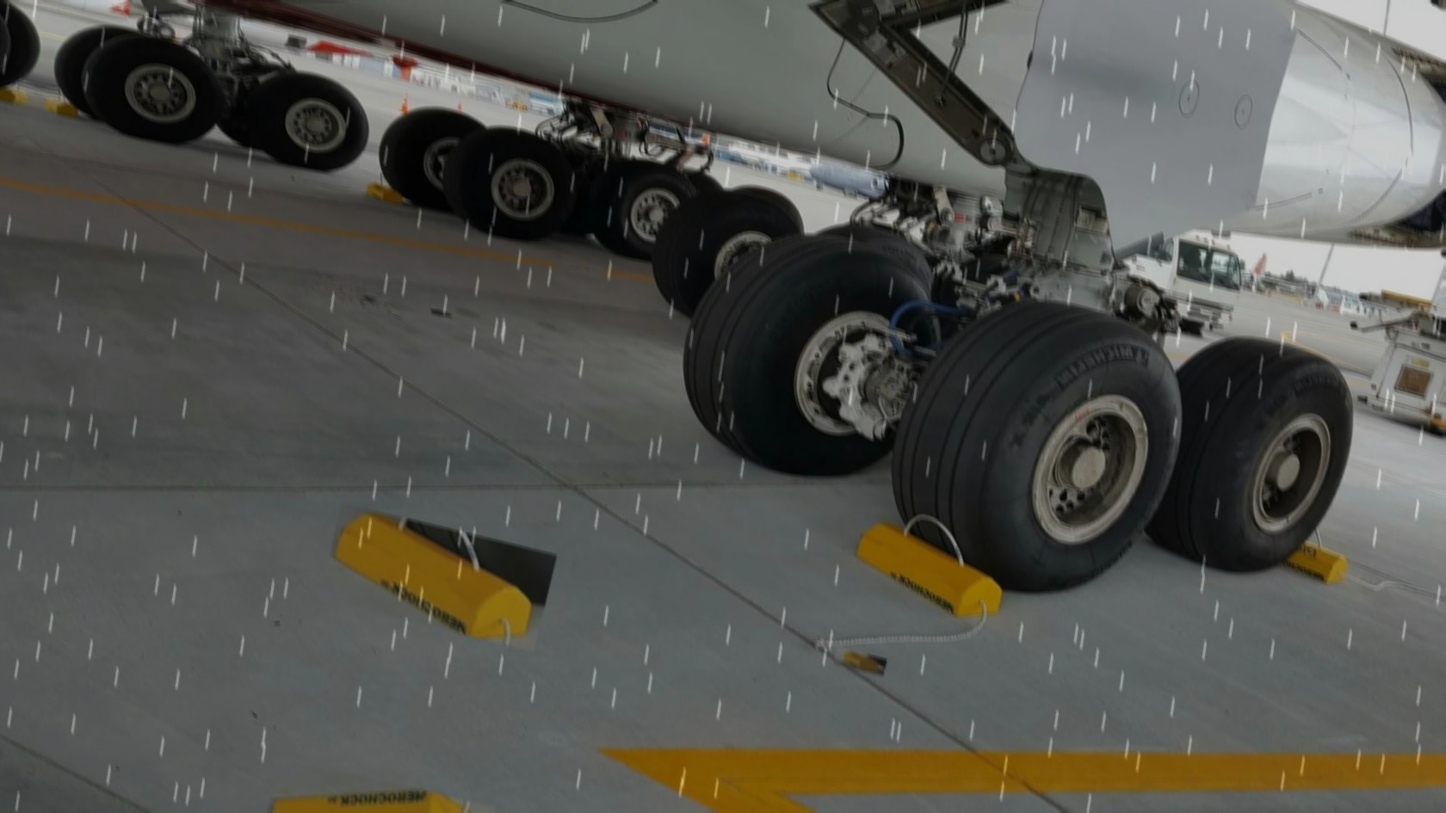chock: (319, 503, 558, 651), (845, 515, 1022, 626), (258, 756, 497, 813), (1221, 519, 1359, 589), (357, 179, 412, 209), (834, 647, 888, 676), (42, 94, 86, 122), (0, 81, 32, 109)
wheel: (864, 265, 1210, 615), (665, 200, 959, 501), (1125, 316, 1375, 592), (641, 165, 817, 336), (67, 19, 240, 156), (436, 114, 590, 253), (230, 57, 383, 182), (365, 92, 492, 218), (578, 146, 703, 270), (45, 11, 150, 122), (811, 211, 939, 285), (541, 136, 628, 243), (0, 0, 52, 99), (720, 177, 812, 232)
